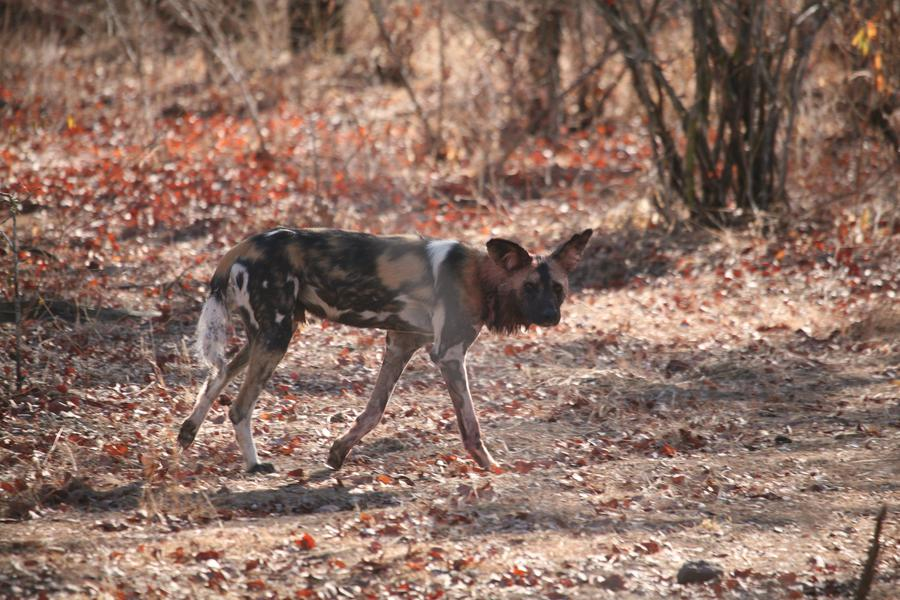wilddog: (136, 217, 610, 459)
